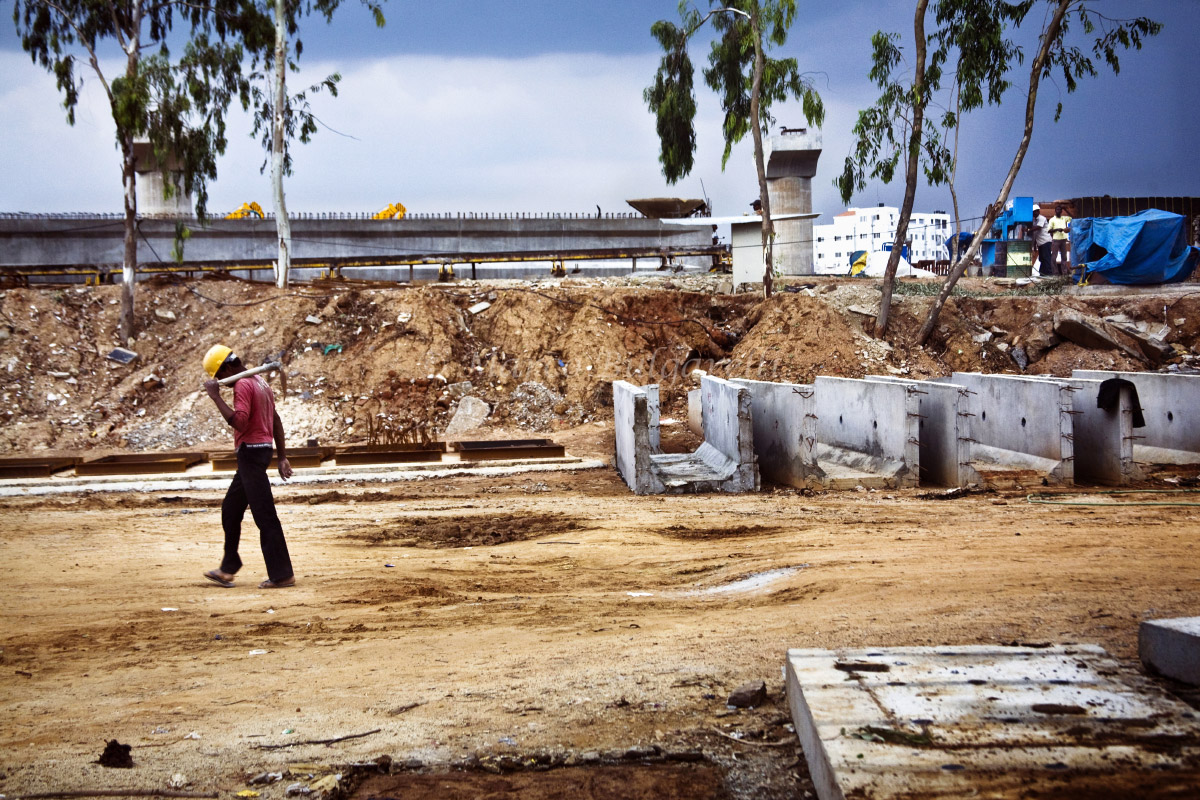NoJacket: (198, 342, 277, 456)
